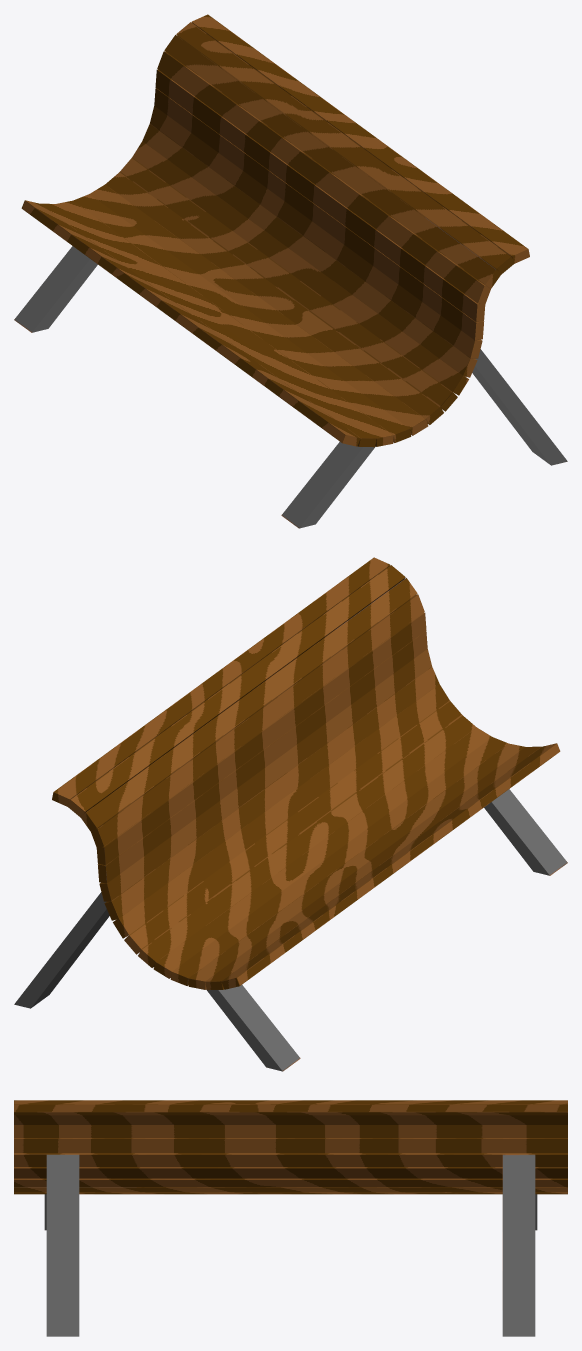
Rendered from bench.fbx.
The picture shows the model from 3 angles, top to bottom: view 1: azimuth 30°, elevation 25°; view 2: azimuth 150°, elevation 25°; view 3: azimuth 270°, elevation 25°; orthographic projection. The views are drawn at different scales.
Visible parts, largest first — view 1: Cube.001; view 2: Cube.001; view 3: Cube.001.
Boxes of the visible parts, left/top/right/bottom form: Cube.001: left=14, top=14, right=567, bottom=528; Cube.001: left=14, top=557, right=567, bottom=1071; Cube.001: left=14, top=1100, right=567, bottom=1336.
Bounding box in the file's own units: 301 × 257 × 620.
1 material, 1 textured.
